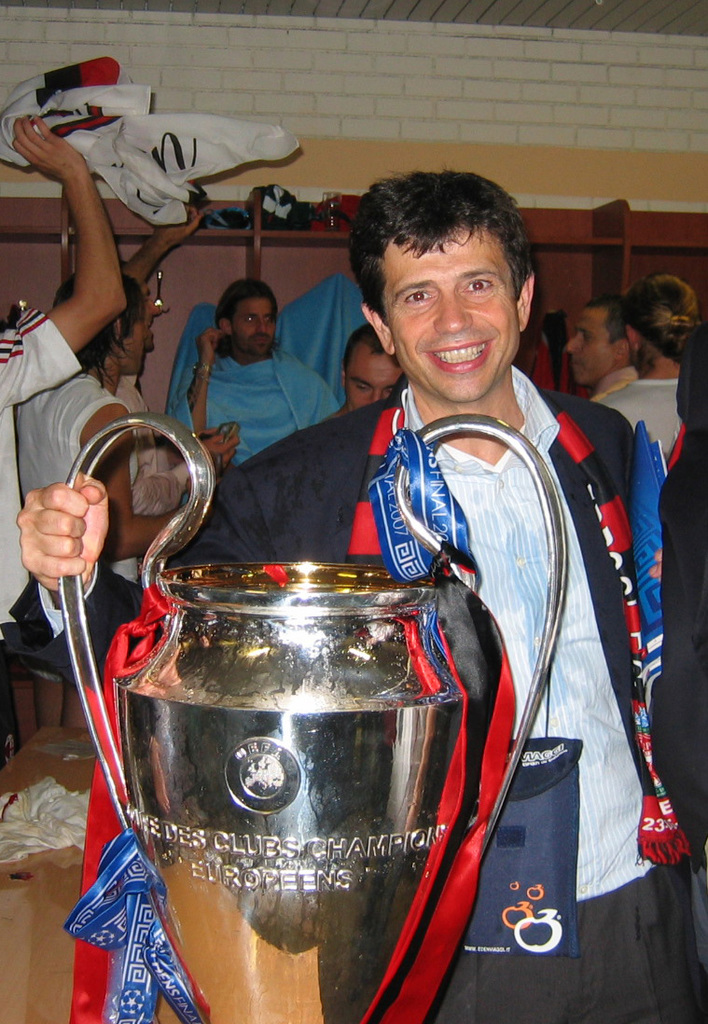Human-face: (379, 230, 525, 409), (347, 344, 406, 415), (566, 312, 616, 390), (232, 299, 278, 360), (124, 323, 147, 380)
